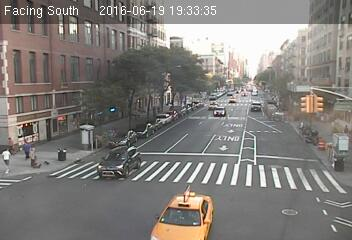neg: (87, 131, 105, 155), (69, 157, 82, 175), (41, 156, 52, 171), (58, 144, 67, 156), (35, 162, 40, 169)
pos: (15, 137, 35, 164), (4, 135, 18, 154)
